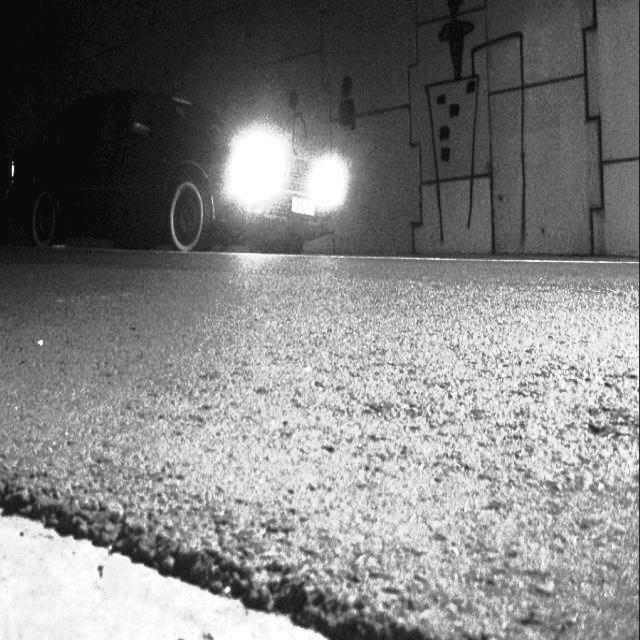Car: (3, 85, 306, 283)
